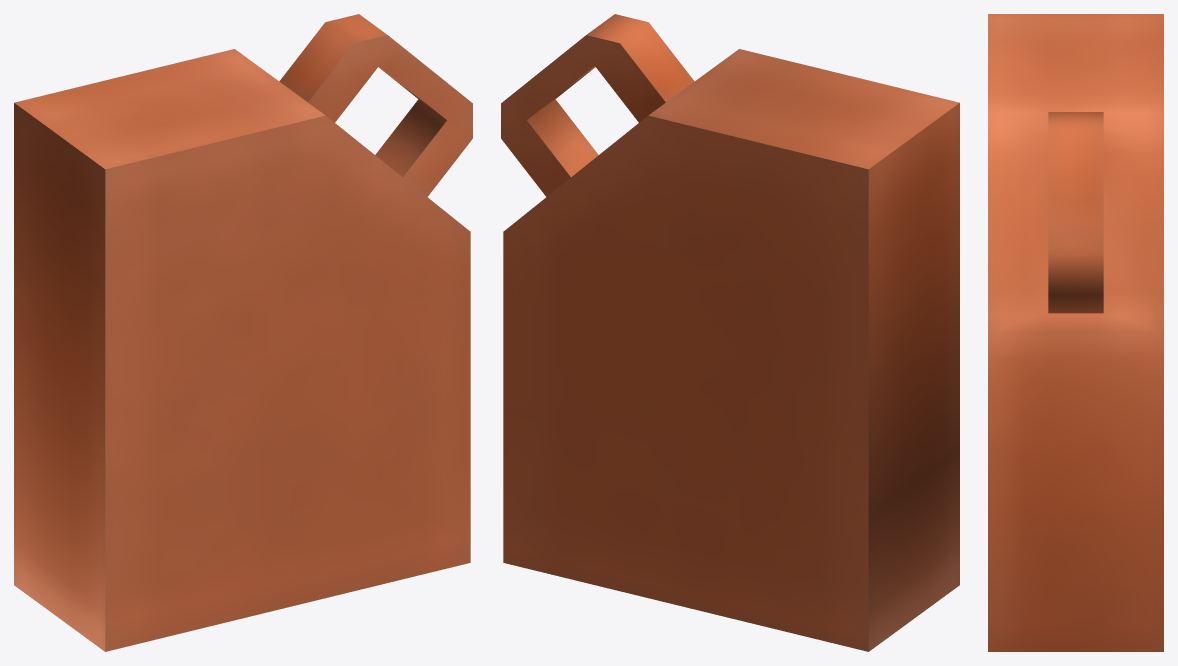
The model's file is Fule_Canister.FBX.
3 views of the same model, side by side, from view 1: azimuth 30°, elevation 25°; view 2: azimuth 150°, elevation 25°; view 3: azimuth 270°, elevation 25° (orthographic). The views are drawn at different scales.
Visible parts, largest first — view 1: Fule_Canister; view 2: Fule_Canister; view 3: Fule_Canister.
Part boxes in pixels (x1,y1,x2,y2): Fule_Canister: (14,14,472,651); Fule_Canister: (501,14,959,651); Fule_Canister: (988,14,1163,651).
Size of the model in its own units: 262 by 325 by 104.
